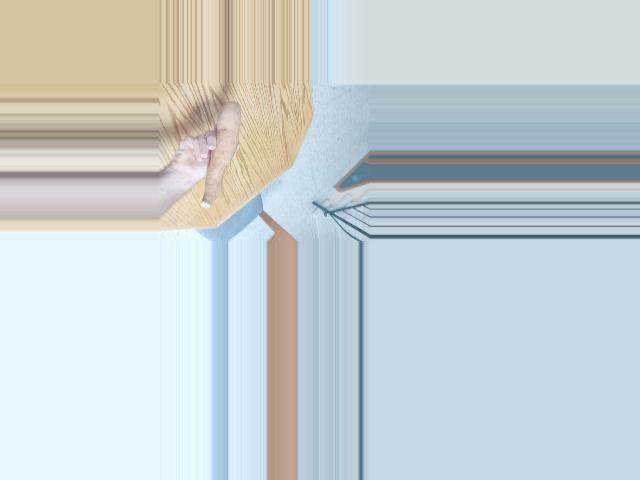sweet_potato: (199, 106, 247, 205)
